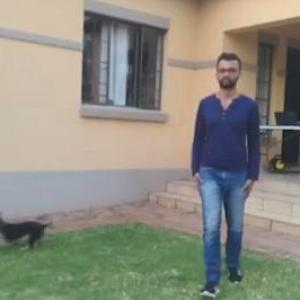follow: (187, 56, 258, 278)
